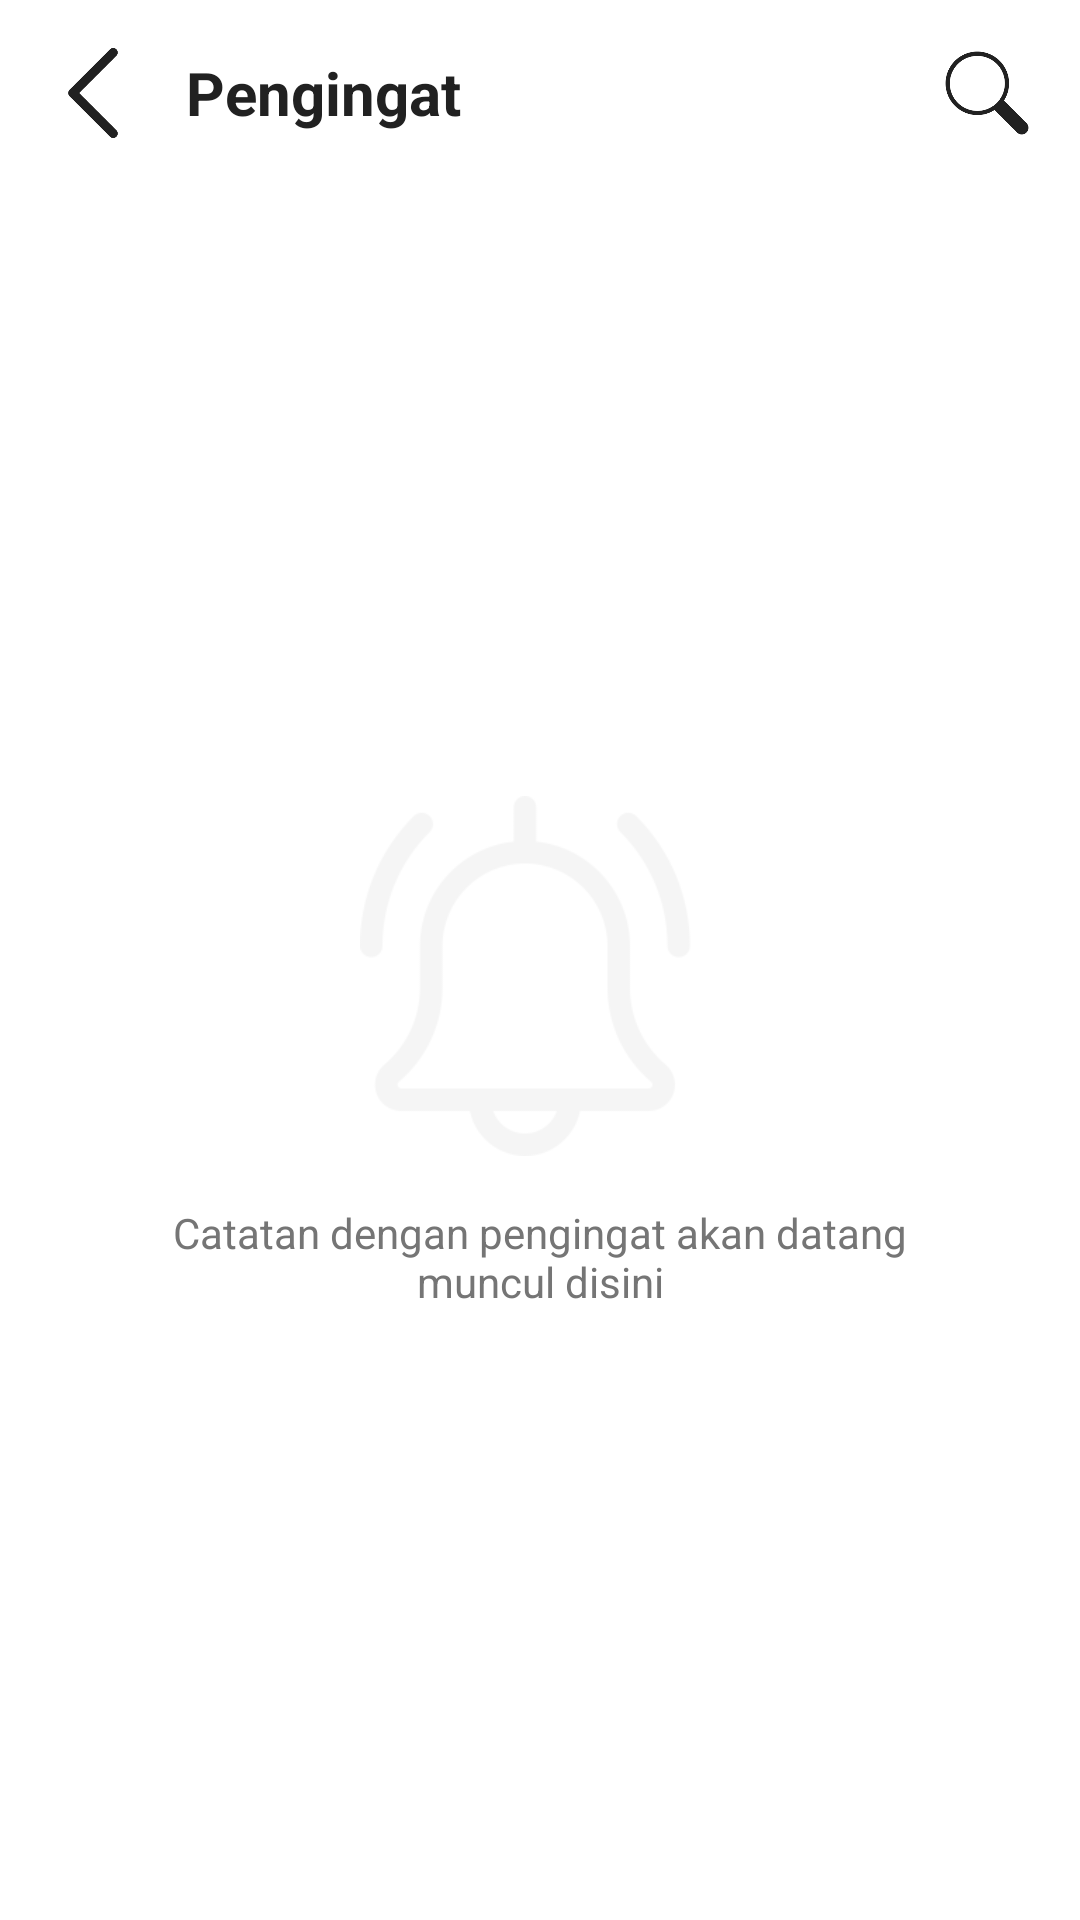

Screen size 1080px x 1920px. Icon name, then its box in pixels as (x1, y1, x2, y2):
back: (68, 48, 118, 138)
cari: (945, 51, 1029, 135)
